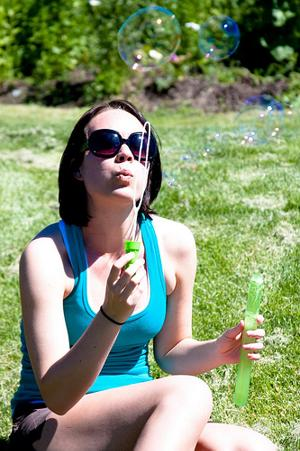person: (15, 94, 281, 451)
